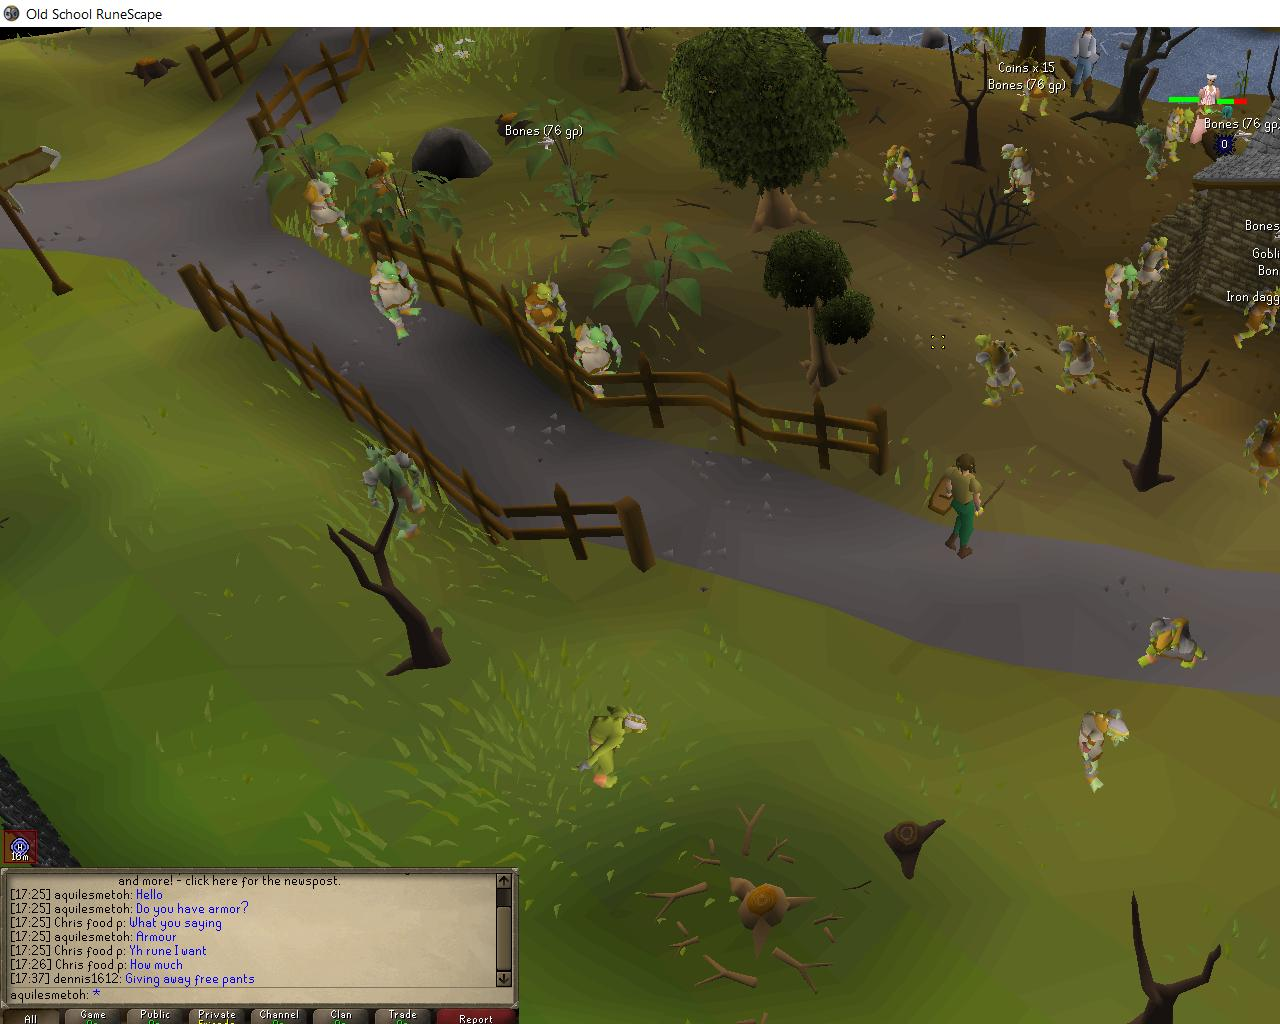Goblin: (355, 441, 446, 546), (577, 698, 652, 794), (358, 257, 437, 342), (296, 166, 363, 250), (569, 320, 634, 401), (969, 328, 1032, 411), (1072, 706, 1132, 794), (1133, 615, 1214, 672), (520, 278, 574, 357), (1047, 324, 1106, 394), (356, 147, 410, 222), (1229, 280, 1280, 349), (1240, 409, 1280, 496), (877, 144, 925, 207), (997, 142, 1042, 206), (1132, 120, 1172, 183), (1137, 235, 1176, 300), (1102, 261, 1138, 328), (1158, 108, 1198, 165), (1018, 74, 1055, 117), (960, 27, 1004, 64)
